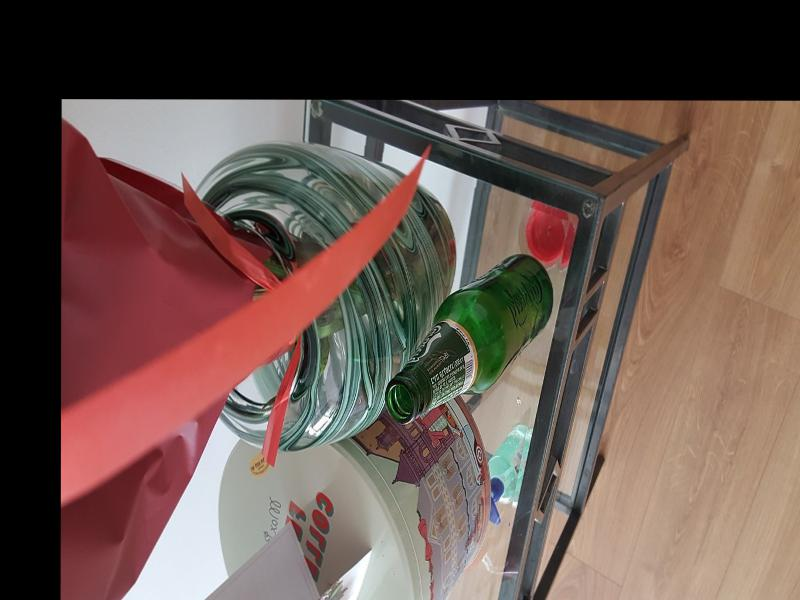Beer: (386, 251, 552, 423)
